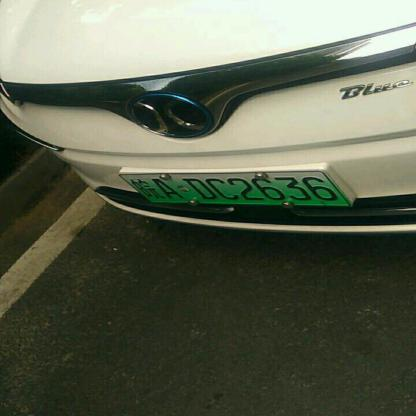lp: (120, 170, 350, 206)
